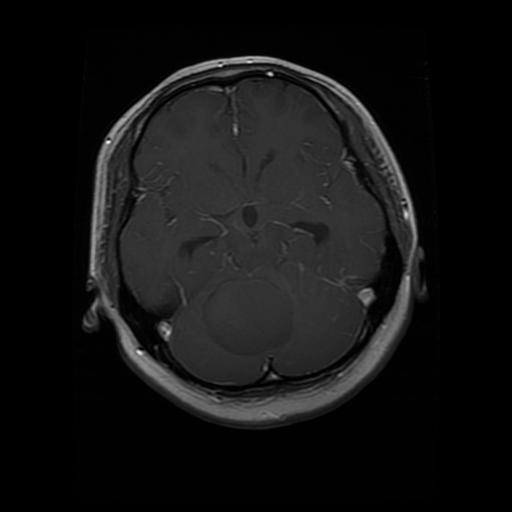Gliomia_tumour: (207, 280, 290, 351)
